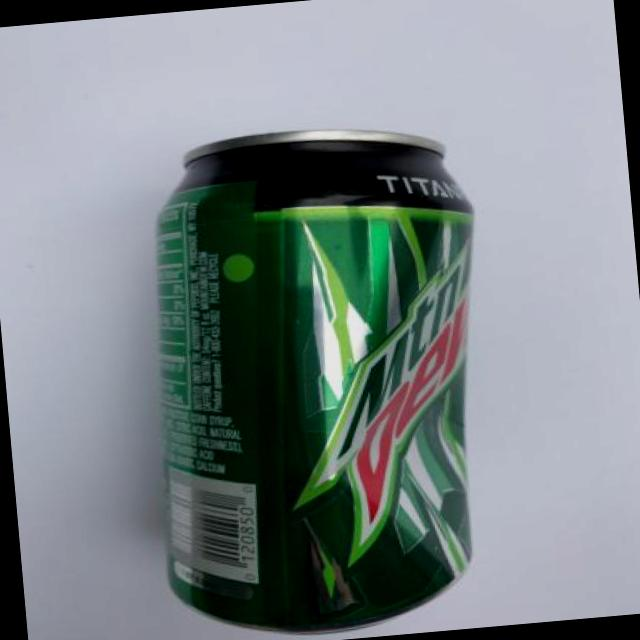metal: (185, 130, 444, 165)
